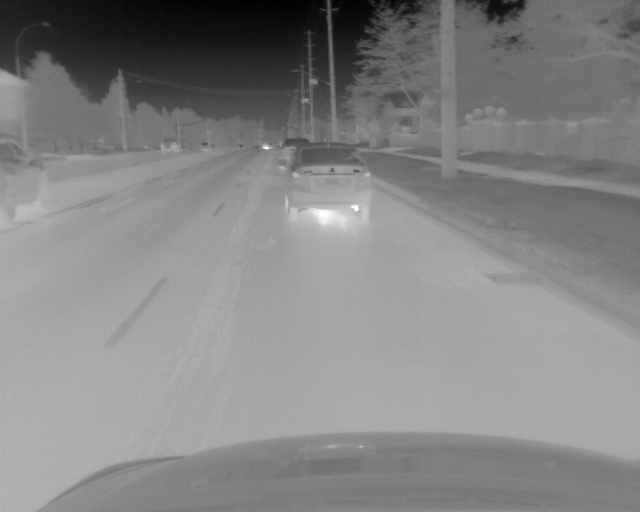car: (278, 142, 373, 222), (1, 135, 51, 225), (278, 137, 310, 158), (160, 138, 182, 152), (199, 142, 215, 151)
